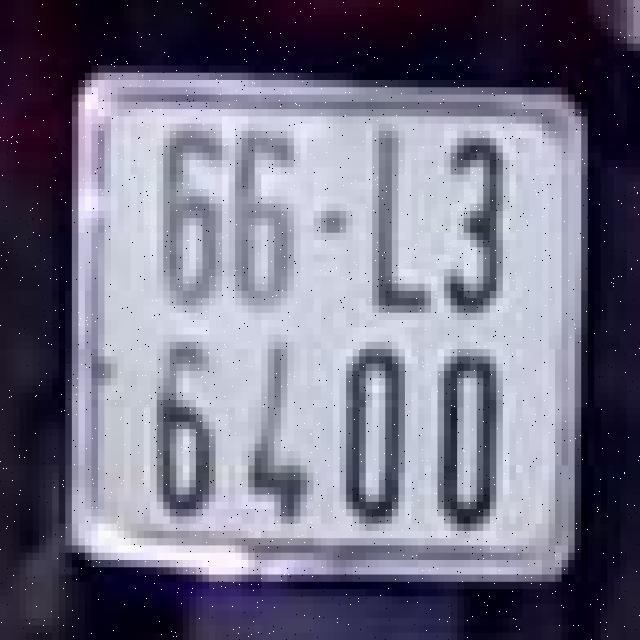0: (434, 335, 513, 538), (333, 338, 411, 542)
3: (448, 127, 520, 331)
4: (242, 331, 314, 556)
6: (150, 109, 229, 320), (137, 334, 222, 524), (229, 128, 307, 316)
L: (356, 105, 441, 324)
